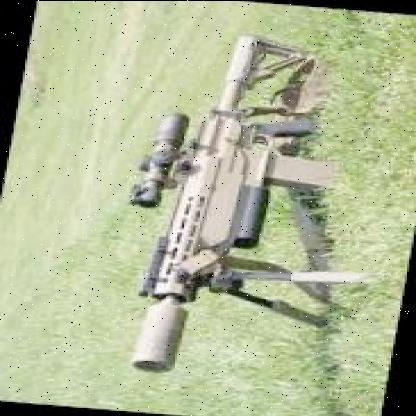rifle: (91, 26, 341, 390)
